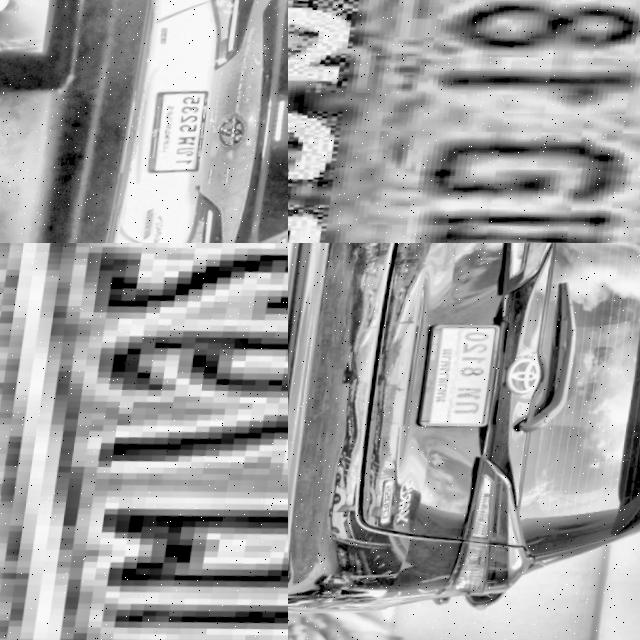license-plate: (0, 243, 288, 640), (288, 0, 640, 243), (418, 323, 509, 436), (148, 90, 217, 181)
